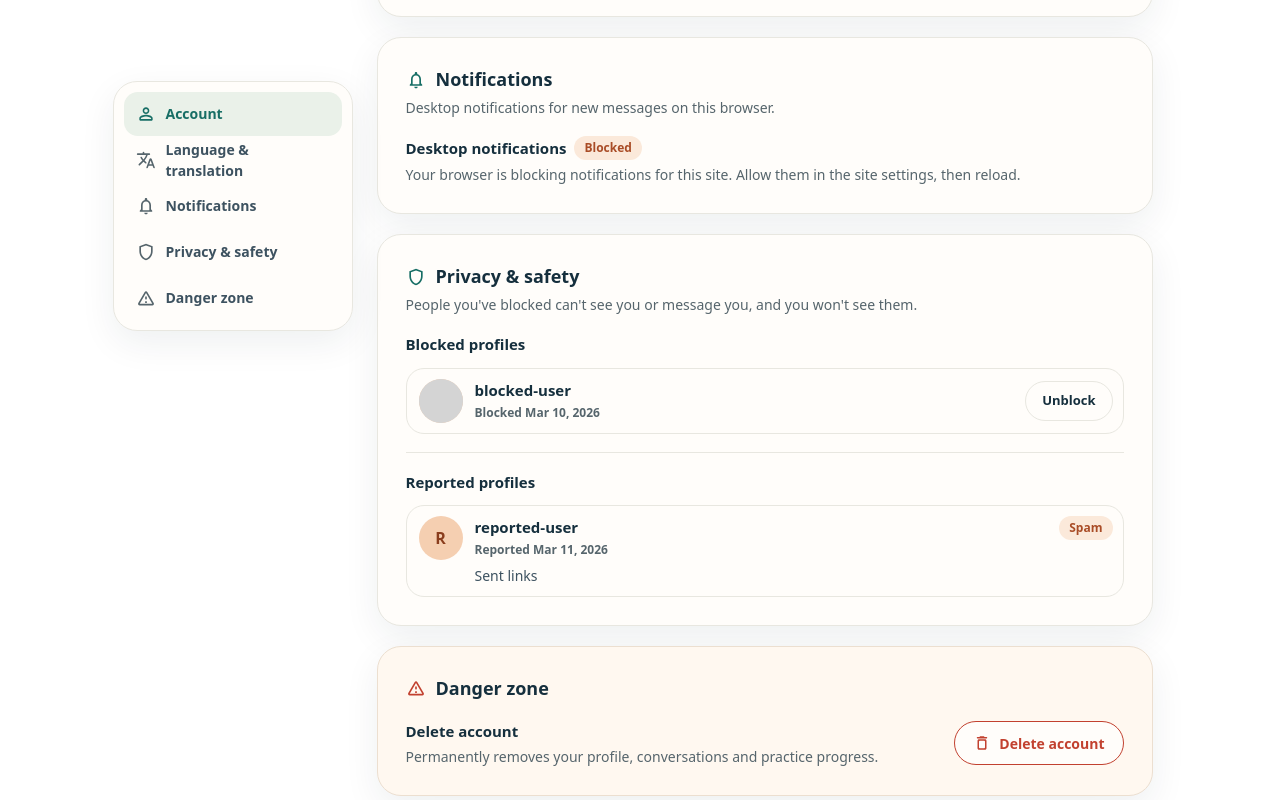
Test: SettingsPage › unblocks a profile once and removes it from the list
(page scrolled)
Click the button with aria-label "Unblock blocked-user": (1069, 400) [1025, 380, 1112, 420]
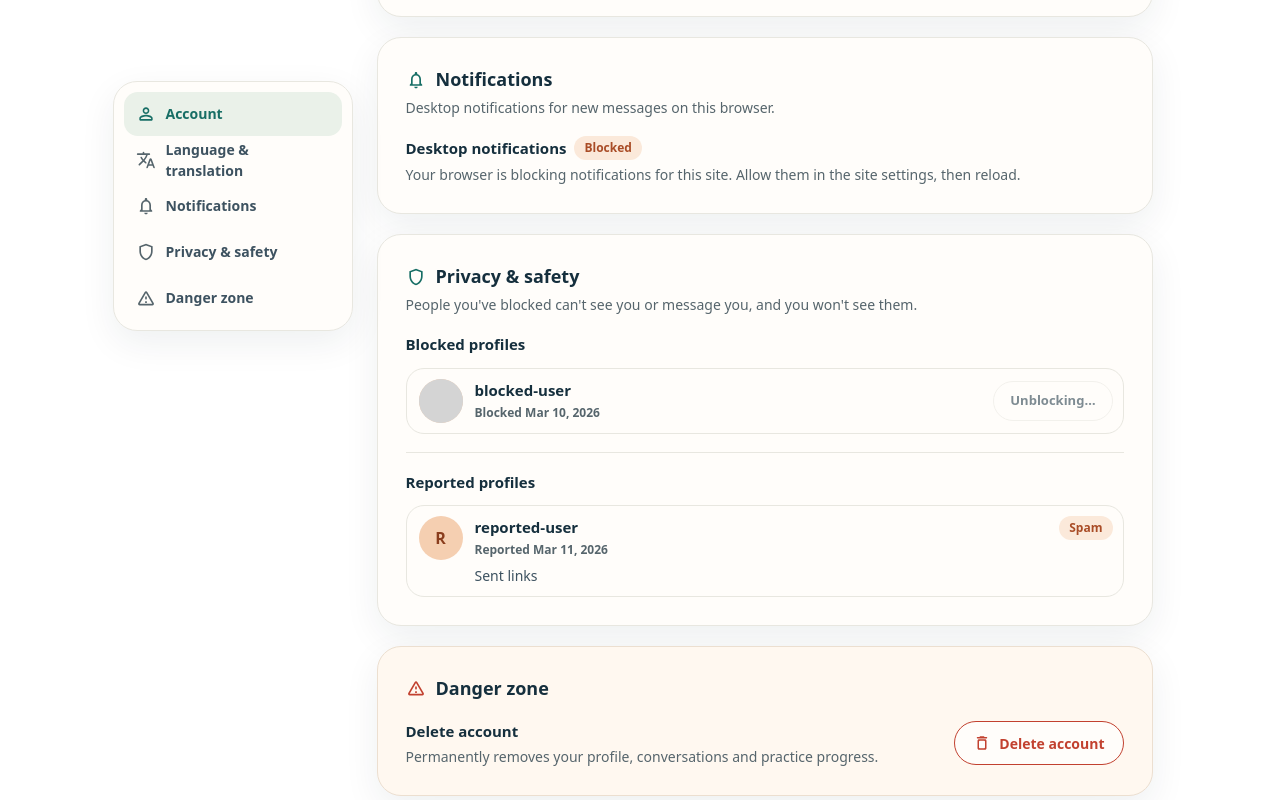
Click the button with aria-label "Unblock blocked-user": (1053, 400) [993, 380, 1112, 420]
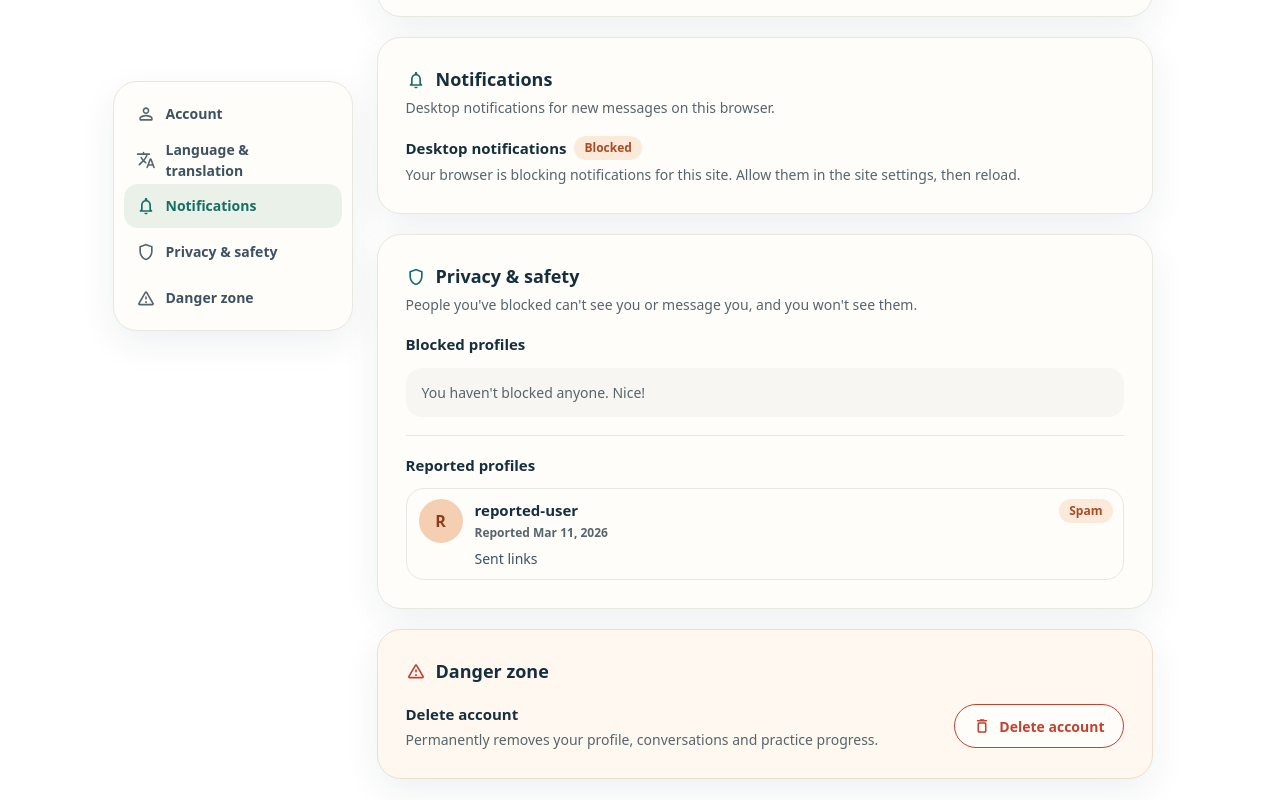
Check: the link "blocked-user" is gone
Check: the text "You haven't blocked anyone. Nice!" is shown, box [406, 368, 1124, 416]
